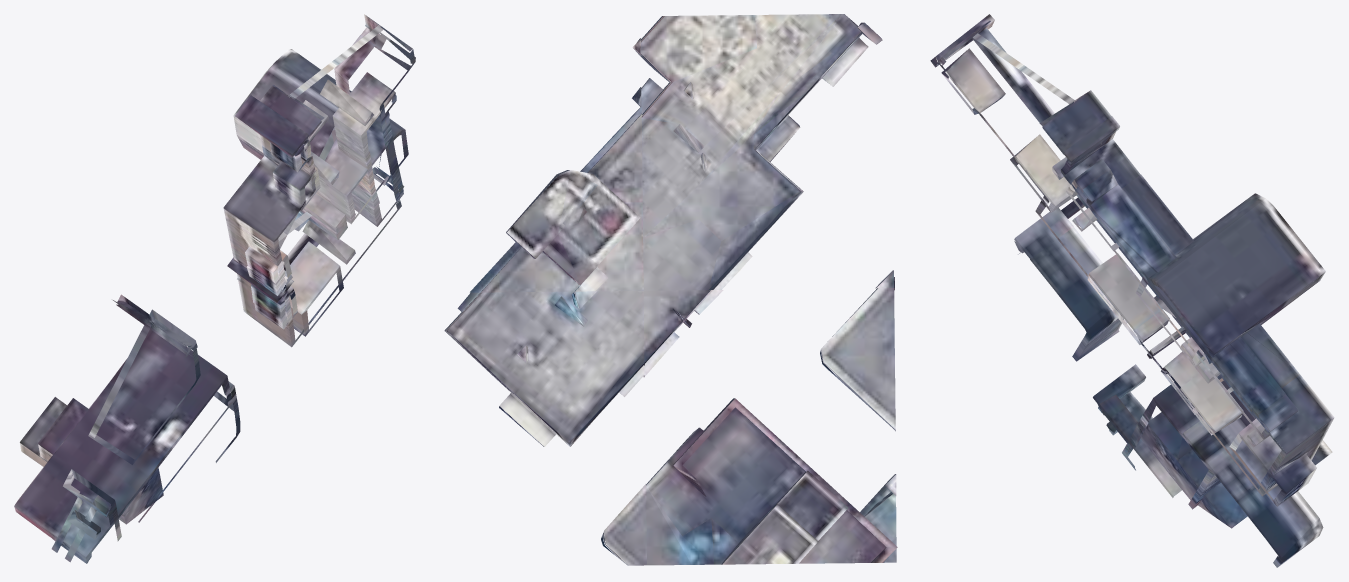
The picture shows the model from 3 angles, left to right: view 1: azimuth 30°, elevation 25°; view 2: azimuth 150°, elevation 25°; view 3: azimuth 270°, elevation 25°; orthographic projection. The views are drawn at different scales.
Size of the model in its own units: 32.7 by 36.44 by 26.24.
2 materials, 2 textured.
